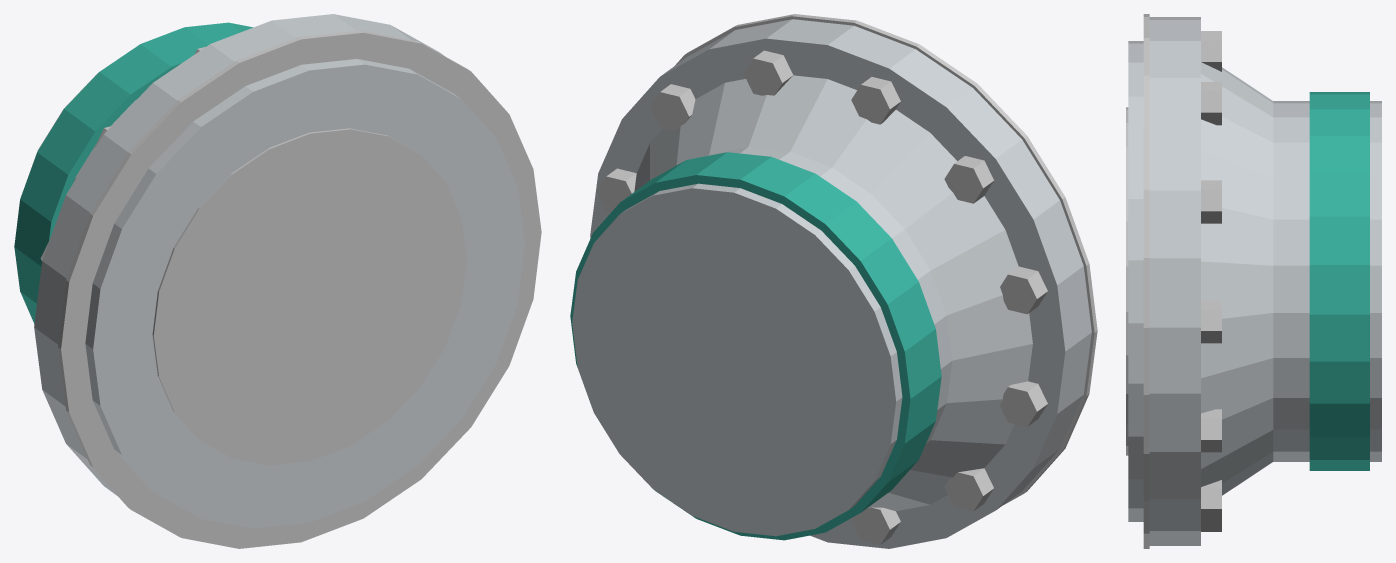
The model's file is body.obj.
The picture shows the model from 3 angles, left to right: view 1: azimuth 30°, elevation 25°; view 2: azimuth 150°, elevation 25°; view 3: azimuth 270°, elevation 25°; orthographic projection. The views are drawn at different scales.
Size of the model in its own units: 0.89 by 0.89 by 0.424.
